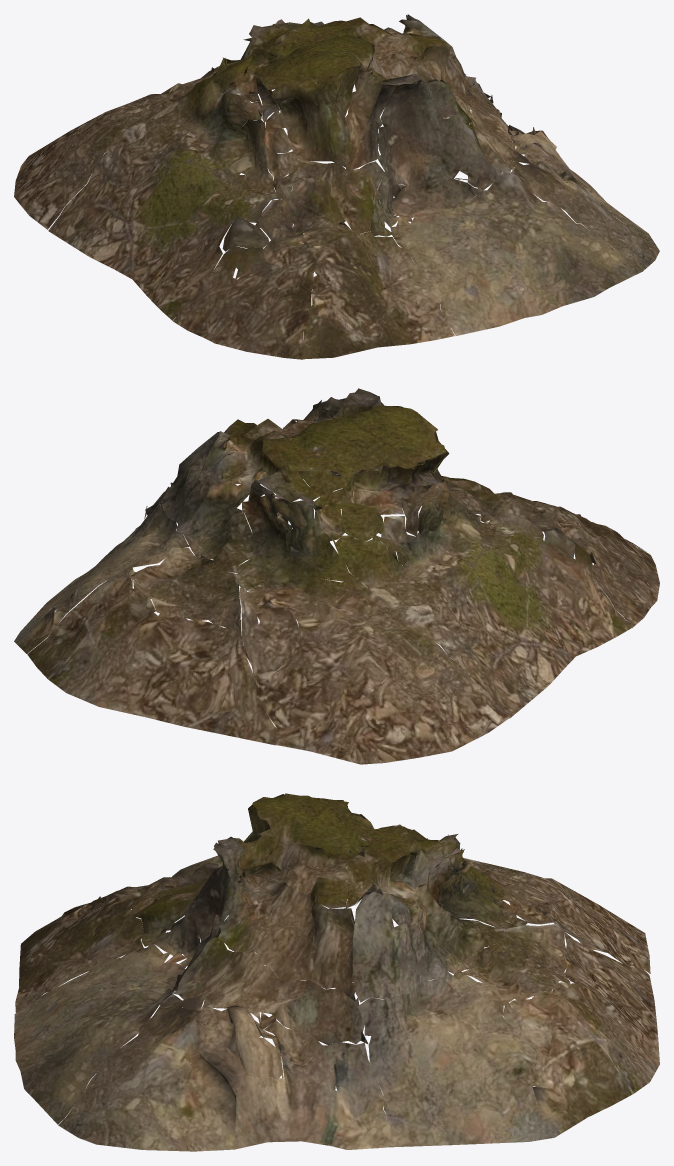
Rendered from stump.glb.
3 views of the same model, one above another, from view 1: azimuth 30°, elevation 25°; view 2: azimuth 150°, elevation 25°; view 3: azimuth 270°, elevation 25° (orthographic). The views are drawn at different scales.
Parts seen in each view (by area): view 1: v0_lod0; view 2: v0_lod0; view 3: v0_lod0.
Part boxes in pixels (box(x1,y1,x2,y2)): v0_lod0: box(14, 14, 659, 359); v0_lod0: box(14, 388, 659, 764); v0_lod0: box(14, 793, 659, 1151).
Size of what is drawn, in the model's own units: 2.49 by 0.9971 by 2.78.
1 material, 1 textured.
